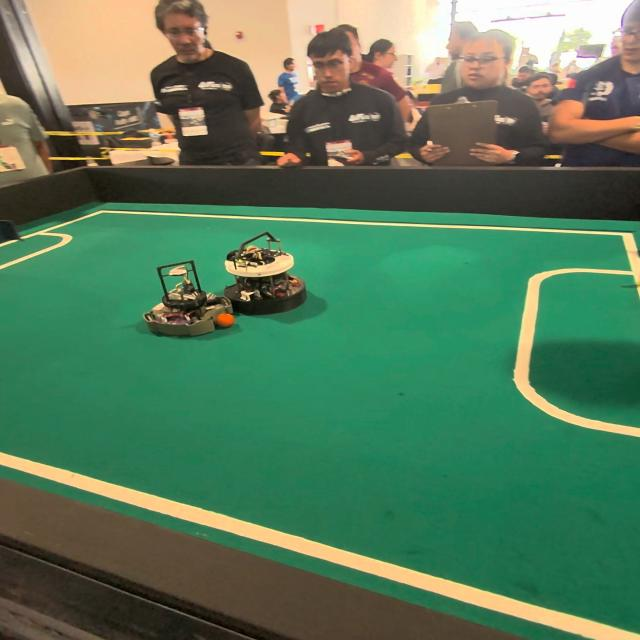Robot: (143, 254, 238, 342), (221, 231, 305, 317)
pelota: (214, 309, 252, 331)
